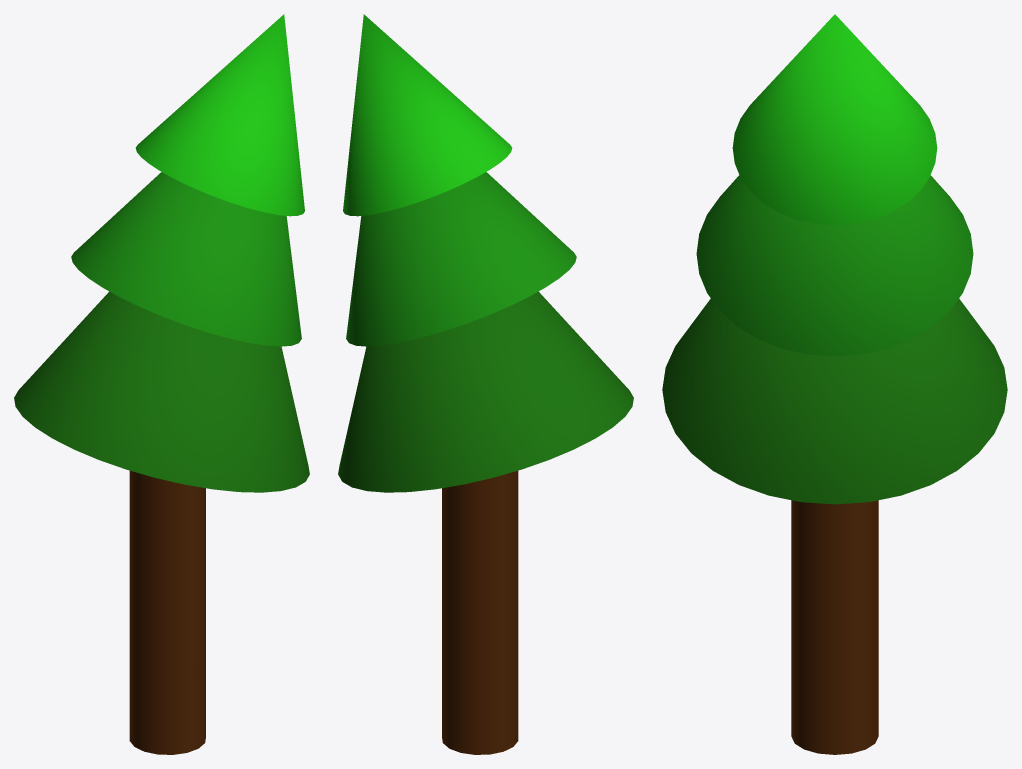
File: tree 5.fbx
3 views of the same model, side by side, from view 1: azimuth 30°, elevation 25°; view 2: azimuth 150°, elevation 25°; view 3: azimuth 270°, elevation 25° (orthographic). The views are drawn at different scales.
Parts seen in each view (by area): view 1: tree 5; view 2: tree 5; view 3: tree 5.
Boxes of the visible parts, x1,y1,x2,y2 form: tree 5: (14, 14, 309, 754); tree 5: (338, 14, 633, 754); tree 5: (662, 14, 1007, 754).
Size of the model in its own units: 212 by 550 by 219.
